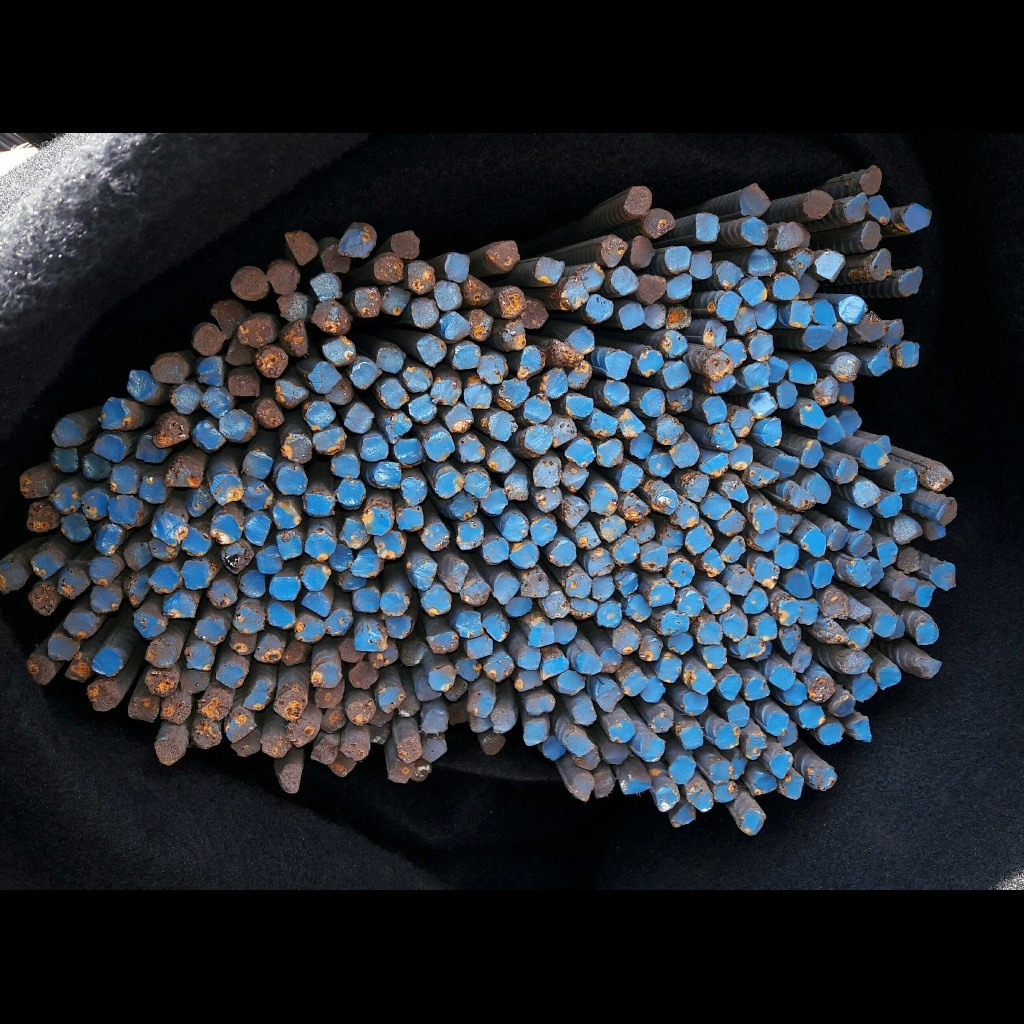dipstick: (230, 267, 269, 302), (211, 300, 248, 336), (312, 299, 349, 335), (737, 182, 770, 217), (108, 495, 142, 528), (281, 317, 309, 357), (154, 415, 188, 447), (238, 318, 275, 347), (283, 230, 315, 263), (273, 378, 308, 408), (151, 355, 187, 384), (487, 240, 521, 270), (145, 668, 181, 696), (59, 512, 91, 543), (416, 334, 447, 366), (269, 261, 299, 294), (181, 559, 211, 592), (899, 202, 932, 232), (860, 249, 893, 279), (379, 377, 408, 411), (533, 455, 561, 490), (318, 336, 354, 363), (168, 383, 199, 414), (126, 369, 157, 400), (463, 275, 494, 306), (220, 542, 252, 572), (433, 279, 462, 312), (409, 295, 438, 328), (520, 297, 548, 331), (1, 555, 26, 593), (272, 758, 299, 793), (191, 419, 222, 449), (153, 513, 183, 544), (350, 286, 380, 317), (802, 189, 832, 220), (856, 312, 887, 342), (276, 465, 308, 494), (23, 652, 52, 684), (424, 519, 449, 556), (383, 409, 411, 442), (166, 458, 199, 486), (194, 616, 227, 644), (565, 438, 598, 466), (182, 644, 216, 671), (408, 260, 435, 294), (888, 516, 923, 542), (396, 437, 426, 467), (95, 431, 125, 461), (301, 560, 331, 590), (522, 423, 552, 453), (212, 474, 243, 503), (59, 568, 88, 599), (132, 609, 163, 638), (152, 738, 183, 767), (595, 681, 624, 712), (645, 208, 674, 239), (814, 251, 845, 280), (307, 362, 339, 390), (372, 458, 400, 490), (209, 515, 241, 543), (350, 359, 377, 392), (50, 417, 83, 444), (693, 211, 720, 244), (467, 308, 493, 342), (257, 346, 286, 376), (92, 648, 122, 677), (304, 533, 334, 562), (293, 614, 323, 643), (390, 230, 420, 259), (431, 377, 461, 406), (501, 378, 530, 408), (541, 369, 570, 399), (659, 329, 689, 358), (924, 462, 954, 491), (320, 244, 351, 272), (191, 325, 222, 353), (306, 400, 337, 428), (375, 343, 403, 374), (360, 432, 388, 463), (30, 549, 61, 577), (29, 583, 57, 614), (128, 695, 159, 723), (199, 690, 230, 718), (226, 709, 257, 737), (372, 254, 403, 282), (519, 346, 547, 377), (509, 541, 540, 569), (343, 227, 370, 259), (276, 293, 308, 320), (426, 586, 453, 618), (228, 370, 261, 396), (62, 613, 95, 639), (782, 483, 815, 509), (219, 410, 248, 439), (90, 583, 119, 612), (151, 565, 180, 594), (600, 379, 629, 408), (620, 493, 649, 522), (313, 429, 348, 453), (235, 604, 265, 632), (365, 506, 393, 536), (496, 288, 526, 316), (487, 412, 517, 440), (488, 445, 518, 473), (523, 395, 553, 423), (572, 520, 600, 550), (657, 610, 692, 634), (559, 278, 587, 308), (702, 492, 732, 520), (382, 286, 409, 317), (706, 583, 733, 614), (866, 193, 892, 225), (399, 366, 432, 391), (201, 387, 229, 416), (99, 399, 128, 427), (282, 433, 311, 461), (51, 445, 80, 473), (87, 680, 115, 709), (207, 579, 236, 607), (340, 518, 368, 547), (446, 403, 474, 432), (535, 256, 563, 285), (610, 267, 639, 295), (663, 360, 692, 388), (845, 503, 874, 531), (270, 499, 300, 526), (82, 490, 109, 520), (46, 634, 76, 661), (268, 601, 295, 631), (275, 688, 302, 718), (427, 433, 454, 463), (619, 463, 646, 493), (485, 657, 515, 684), (538, 592, 568, 619), (677, 586, 704, 616), (611, 625, 638, 655), (304, 491, 335, 517), (18, 471, 49, 497), (163, 592, 194, 618), (278, 528, 304, 559), (600, 235, 626, 266), (745, 466, 780, 489), (145, 641, 177, 666), (246, 679, 271, 711), (412, 559, 437, 591), (688, 248, 713, 280), (807, 473, 831, 506), (197, 357, 225, 385), (344, 403, 372, 431), (348, 661, 376, 689), (589, 410, 617, 438), (646, 579, 674, 607), (855, 220, 883, 248), (742, 217, 770, 245), (858, 442, 886, 470), (312, 271, 339, 300), (243, 449, 270, 478), (138, 436, 167, 463), (106, 466, 135, 493), (159, 696, 188, 723), (421, 708, 450, 735), (451, 342, 480, 369), (463, 383, 492, 410), (433, 472, 462, 499), (604, 351, 631, 380), (587, 487, 616, 514), (722, 612, 749, 641), (639, 273, 666, 302), (783, 569, 812, 596), (806, 674, 835, 701), (139, 476, 165, 506), (93, 522, 119, 552), (122, 542, 152, 568), (373, 531, 403, 557), (409, 394, 435, 424), (613, 536, 639, 566), (665, 561, 695, 587), (694, 619, 724, 645), (655, 416, 685, 442), (749, 507, 779, 533), (26, 502, 57, 527), (257, 634, 282, 665), (355, 547, 380, 578), (429, 631, 460, 656), (698, 644, 729, 669), (258, 734, 290, 758), (746, 248, 778, 272), (327, 454, 360, 477), (353, 628, 386, 651), (255, 398, 282, 426), (244, 481, 271, 509), (352, 588, 379, 616), (441, 312, 468, 340), (477, 355, 505, 382), (618, 409, 645, 437), (456, 521, 483, 549), (492, 575, 520, 602), (564, 573, 592, 600), (672, 502, 699, 530), (623, 595, 650, 623), (740, 278, 768, 305), (838, 296, 866, 323), (337, 479, 363, 508), (401, 476, 427, 505), (455, 610, 484, 636), (578, 264, 604, 293), (801, 528, 827, 557), (184, 526, 209, 556), (244, 515, 269, 545), (88, 558, 118, 583), (349, 698, 374, 728), (397, 506, 422, 536), (670, 442, 700, 467), (707, 351, 732, 381), (565, 395, 596, 419), (637, 547, 668, 571), (748, 392, 779, 416), (447, 560, 468, 595), (500, 321, 527, 348), (569, 327, 596, 354), (458, 435, 485, 462), (551, 418, 578, 445), (561, 463, 588, 490), (502, 514, 529, 541), (685, 526, 712, 553), (664, 246, 691, 273), (194, 721, 220, 749), (302, 590, 330, 616), (504, 474, 530, 502), (453, 494, 481, 520), (531, 517, 557, 545), (484, 614, 510, 642), (636, 676, 664, 702), (853, 481, 881, 507), (844, 559, 870, 587), (850, 675, 878, 701), (287, 717, 312, 746), (444, 251, 469, 280), (553, 343, 582, 368), (598, 517, 627, 542), (700, 548, 725, 577), (843, 193, 868, 222), (897, 267, 922, 296), (714, 261, 743, 286), (745, 361, 770, 390), (833, 455, 858, 484), (822, 591, 847, 620), (380, 592, 410, 616), (558, 670, 588, 694), (563, 729, 593, 753), (665, 389, 695, 413), (531, 489, 562, 512), (629, 236, 652, 267), (761, 418, 784, 449), (178, 670, 210, 692), (460, 582, 492, 604), (596, 440, 623, 466), (589, 575, 615, 602), (659, 527, 686, 553), (670, 800, 696, 827), (776, 222, 803, 248), (52, 485, 80, 510), (217, 661, 242, 689), (257, 545, 282, 573), (596, 602, 621, 630), (574, 650, 602, 675), (638, 350, 663, 378), (642, 388, 667, 416), (716, 290, 741, 318), (788, 299, 813, 327), (869, 346, 894, 374), (789, 359, 817, 384), (832, 355, 860, 380), (931, 562, 956, 590), (270, 575, 299, 599), (341, 736, 370, 760), (587, 552, 616, 576), (685, 668, 714, 692), (526, 693, 555, 717), (775, 381, 799, 410), (231, 734, 261, 757), (480, 540, 510, 563), (814, 376, 837, 406), (226, 338, 252, 364), (311, 737, 337, 763), (563, 501, 589, 527), (551, 620, 577, 646), (586, 295, 612, 321), (799, 402, 825, 428), (893, 468, 919, 494), (240, 569, 265, 596), (466, 470, 491, 497), (549, 540, 576, 565), (640, 736, 665, 763), (682, 692, 709, 717), (670, 756, 695, 783), (741, 809, 766, 836), (749, 332, 774, 359), (683, 475, 708, 502), (188, 487, 212, 515), (370, 643, 398, 667), (423, 736, 447, 764), (522, 573, 550, 597), (605, 719, 633, 743), (598, 742, 630, 763), (715, 723, 739, 751), (629, 186, 650, 218), (826, 525, 850, 553), (755, 300, 778, 329), (803, 324, 832, 347), (860, 165, 882, 195), (841, 651, 871, 673), (82, 453, 107, 479), (315, 683, 340, 709), (628, 433, 653, 459), (468, 691, 493, 717), (667, 273, 692, 299), (722, 340, 748, 365), (876, 494, 902, 519), (150, 538, 177, 562), (325, 609, 349, 636), (454, 658, 481, 682), (521, 719, 548, 743), (573, 699, 597, 726), (677, 725, 704, 749), (773, 274, 800, 298), (702, 318, 726, 345), (820, 621, 847, 645), (528, 625, 556, 648), (717, 672, 740, 700), (515, 670, 543, 693), (571, 774, 594, 802), (791, 247, 814, 275), (820, 416, 843, 444), (721, 479, 749, 502), (311, 664, 340, 686), (567, 597, 596, 619), (813, 560, 835, 589), (127, 575, 148, 605), (332, 543, 353, 573), (622, 669, 647, 694), (648, 709, 673, 734), (688, 787, 713, 812), (619, 303, 644, 328), (728, 444, 753, 469), (774, 453, 799, 478), (327, 377, 351, 403), (399, 640, 423, 666), (630, 518, 654, 544), (647, 454, 673, 478), (813, 299, 837, 325), (702, 397, 728, 421), (775, 542, 799, 568), (914, 621, 938, 647), (896, 341, 919, 368), (800, 440, 823, 467), (775, 600, 798, 627), (542, 655, 570, 677), (700, 454, 728, 476), (718, 511, 746, 533), (937, 499, 959, 527), (798, 705, 826, 727), (338, 569, 367, 590), (465, 637, 494, 658), (660, 654, 681, 683), (66, 657, 91, 681), (517, 646, 541, 671), (615, 570, 639, 595), (752, 772, 776, 797), (771, 664, 795, 689), (743, 589, 767, 614), (667, 304, 691, 329), (754, 563, 779, 587), (232, 628, 255, 654), (398, 735, 421, 761), (639, 635, 662, 661), (479, 733, 505, 756), (735, 306, 758, 332), (722, 537, 745, 563), (897, 547, 920, 573), (482, 493, 509, 515), (745, 732, 767, 759), (829, 696, 856, 718), (811, 768, 838, 790), (572, 362, 593, 390), (655, 489, 676, 517), (732, 409, 753, 437), (540, 736, 564, 760), (744, 676, 769, 699), (753, 617, 778, 640), (728, 570, 751, 595), (838, 409, 861, 434), (431, 666, 453, 692), (771, 751, 793, 777), (737, 636, 763, 658), (592, 772, 613, 799), (885, 318, 905, 346), (767, 355, 787, 383), (778, 512, 801, 536), (385, 616, 410, 638), (492, 708, 514, 733), (655, 787, 677, 812), (715, 424, 737, 449), (853, 718, 875, 743), (752, 530, 778, 551), (287, 640, 307, 667), (505, 597, 532, 617), (876, 540, 896, 567), (777, 624, 797, 651), (378, 689, 401, 712), (418, 677, 441, 700), (388, 761, 412, 783), (765, 711, 787, 735), (621, 779, 652, 796), (341, 636, 362, 661), (323, 707, 344, 732), (668, 633, 693, 654), (575, 747, 600, 768), (712, 781, 737, 802), (601, 648, 621, 674), (779, 720, 798, 747), (646, 303, 665, 330), (728, 703, 751, 725), (851, 533, 873, 556), (892, 578, 914, 601), (332, 752, 353, 776), (796, 601, 817, 625), (790, 646, 808, 674), (849, 625, 870, 649), (797, 273, 817, 298), (818, 724, 843, 744), (709, 762, 735, 781), (783, 775, 802, 801), (827, 322, 846, 348), (917, 660, 943, 679), (370, 706, 393, 727), (786, 682, 807, 705), (876, 666, 899, 687), (874, 612, 894, 636), (710, 374, 738, 391), (450, 702, 470, 725), (412, 759, 431, 783), (836, 379, 854, 404), (399, 695, 418, 717), (451, 676, 468, 700), (467, 716, 492, 732), (851, 602, 870, 622), (370, 723, 387, 745), (926, 521, 946, 539), (755, 641, 772, 662), (732, 754, 744, 782), (867, 559, 878, 589), (917, 583, 930, 608), (892, 615, 904, 641), (879, 434, 894, 454)
